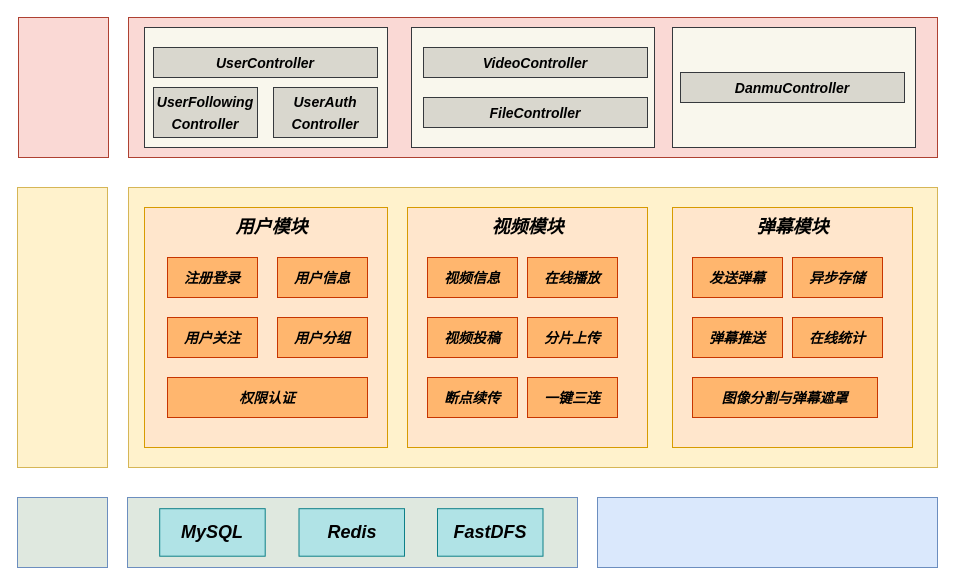
The diagram is 955 pixels wide and 585 high, and some of its shapes have lost their labels. The shapes that lost their labels are listed below. From the top down, each one's box as (x1, y1, x2, y2) in pixels, then its label:
(18, 16, 108, 158): API
(16, 186, 108, 468): 服务层
(16, 496, 108, 568): 数据层
(596, 496, 938, 568): 百度人工智能API
